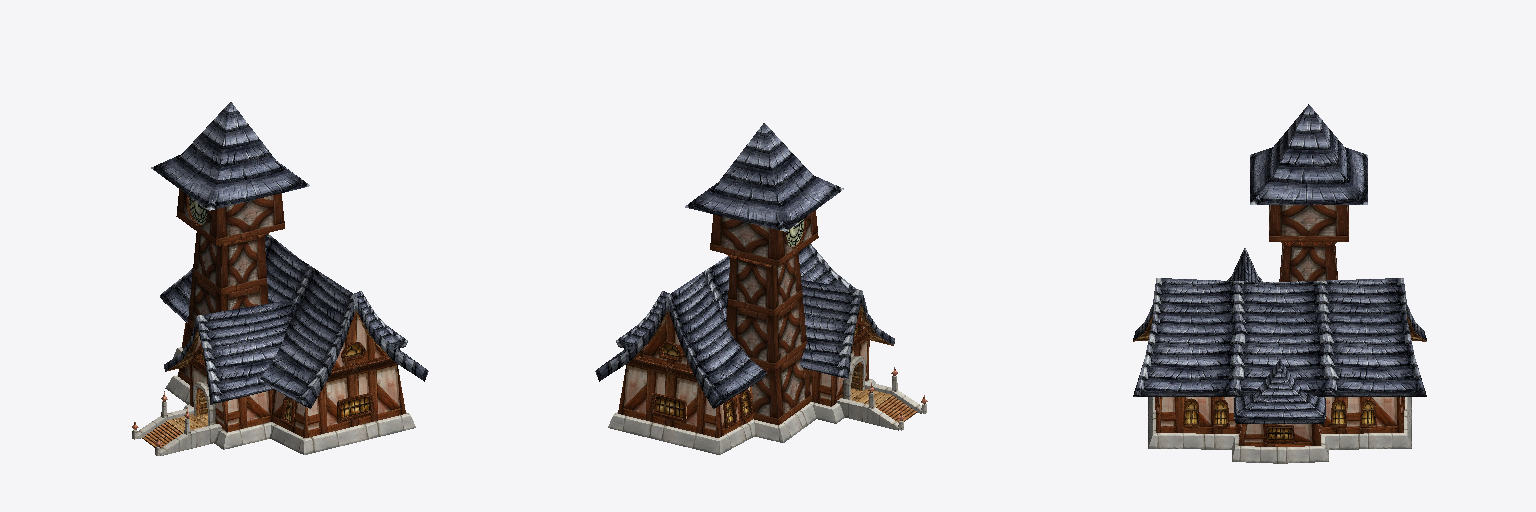
3 renders of one model, left to right at view 1: azimuth 30°, elevation 25°; view 2: azimuth 150°, elevation 25°; view 3: azimuth 270°, elevation 25°, orthographic.
Parts seen in each view (by area): view 1: exterior; view 2: exterior; view 3: exterior.
Part boxes in pixels (x1,y1,x2,y2): exterior: (132, 102, 428, 455); exterior: (595, 123, 927, 454); exterior: (1133, 104, 1426, 463).
Size of the model in its own units: 56.19 by 60.87 by 55.36.
Materials: 17 (16 with a texture image).